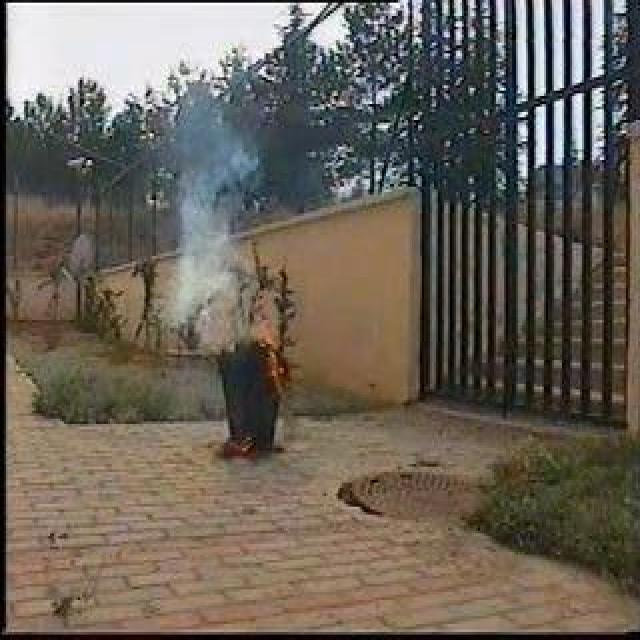fire: (245, 288, 297, 395)
smoke: (173, 103, 247, 300)
